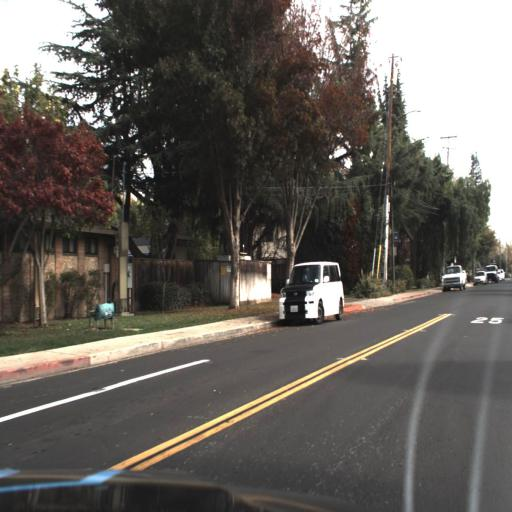car: (277, 261, 346, 323), (441, 264, 468, 294)
